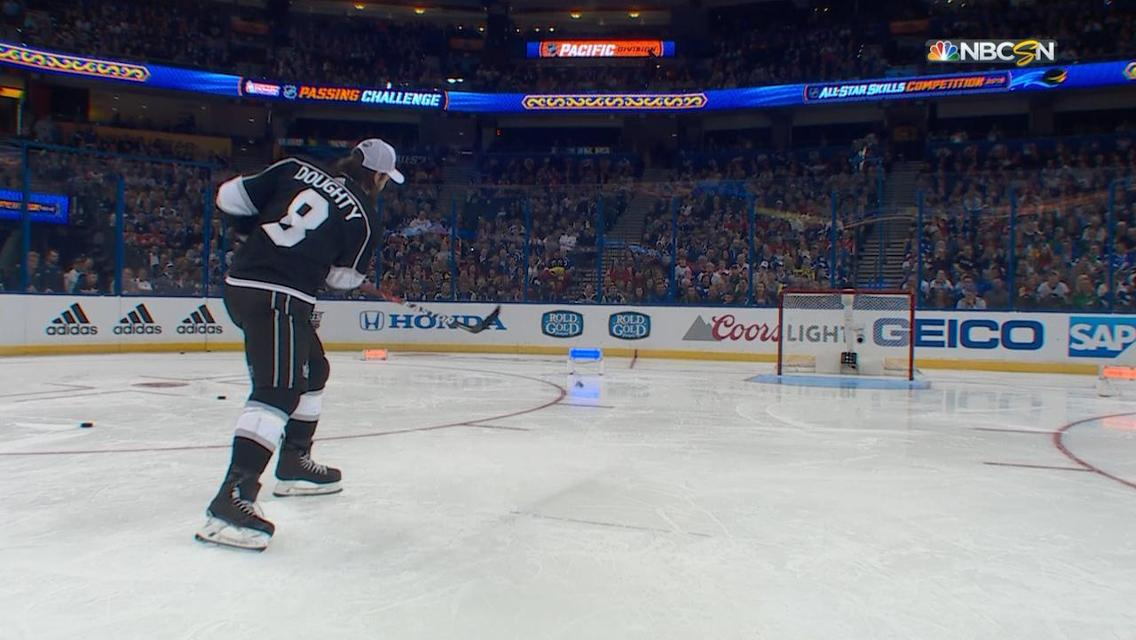geico: (870, 302, 1058, 361)
